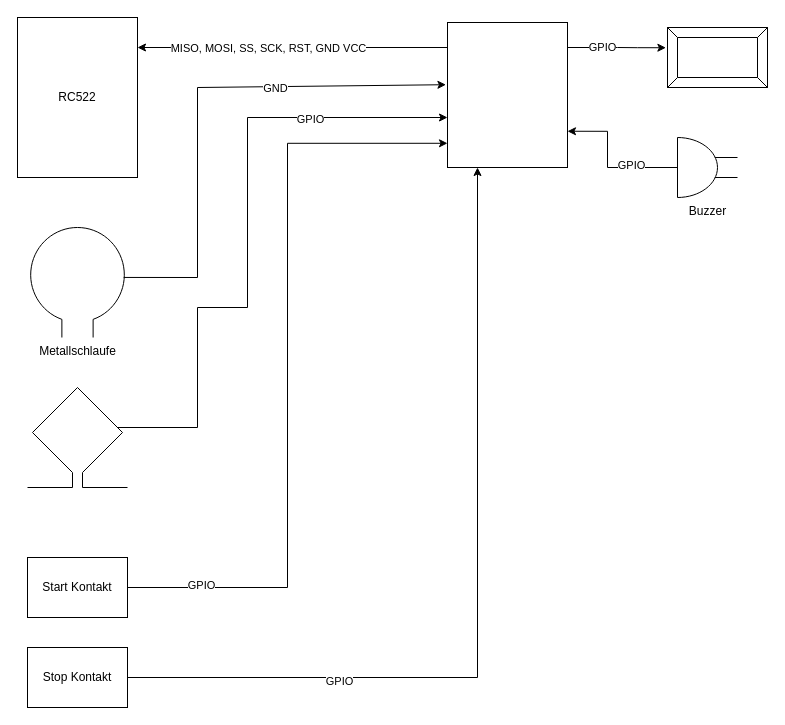
This 785x725 diagram has some shape labels left out. Here are the shapes that lost their labels. From the top down, the centre of each, then its label:
pixel 717 57: Cal. Start Button
pixel 507 95: ESP32C3
pixel 77 437: Parcoursdraht
